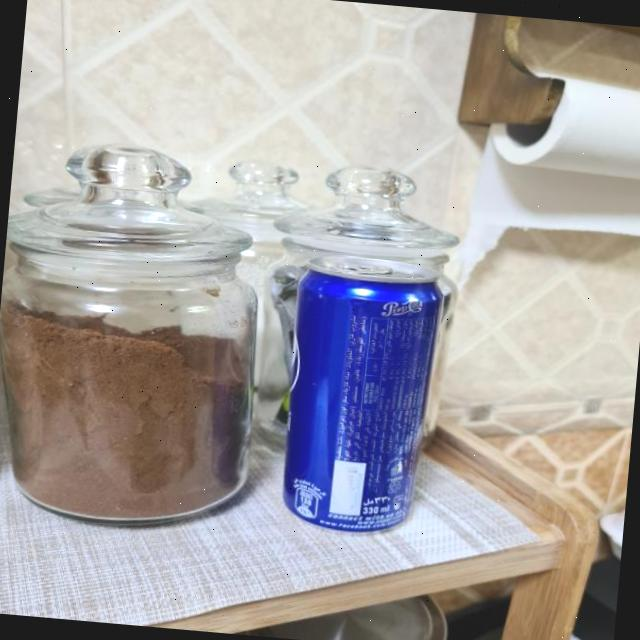trash: (282, 252, 450, 534)
